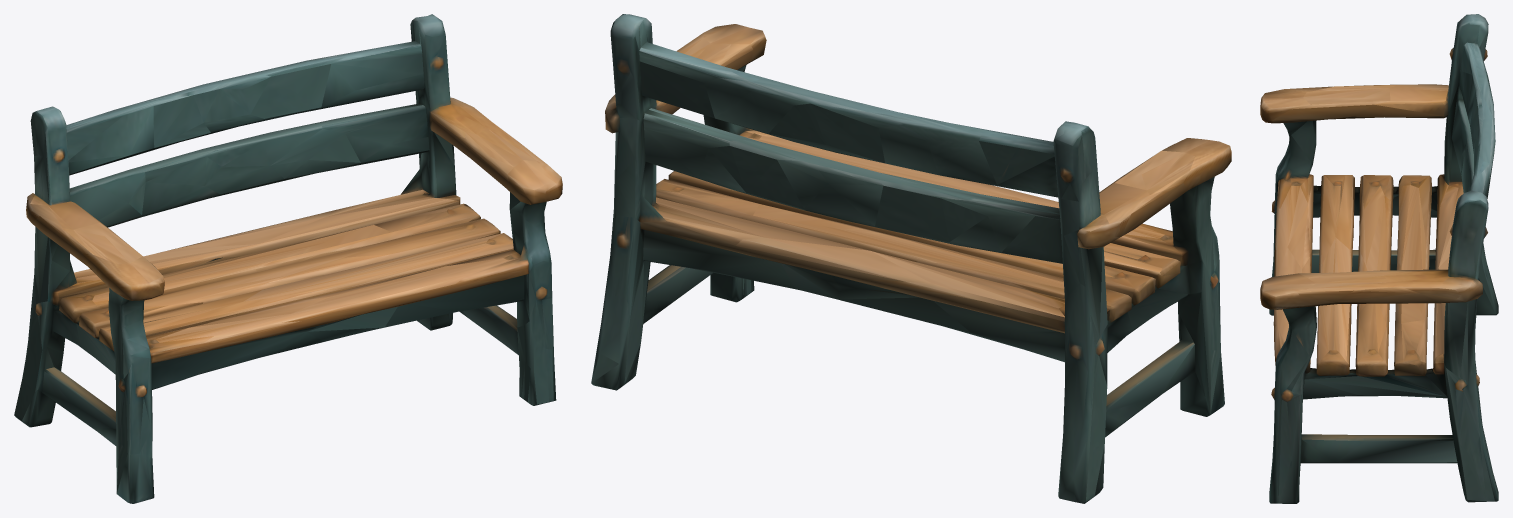
File: bench.glb
3 views of the same model, side by side, from view 1: azimuth 30°, elevation 25°; view 2: azimuth 150°, elevation 25°; view 3: azimuth 270°, elevation 25° (orthographic). The views are drawn at different scales.
Visible parts, largest first — view 1: tripo_node_4477cc88; view 2: tripo_node_4477cc88; view 3: tripo_node_4477cc88.
Boxes of the visible parts, x1,y1,x2,y2 form: tripo_node_4477cc88: (14,14,562,503); tripo_node_4477cc88: (591,14,1231,503); tripo_node_4477cc88: (1260,14,1498,503).
Bounding box in the file's own units: 1.27 × 0.8539 × 0.6191.
1 material, 1 textured.
